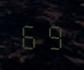nine: (41, 19, 62, 50)
six: (19, 19, 40, 49)
